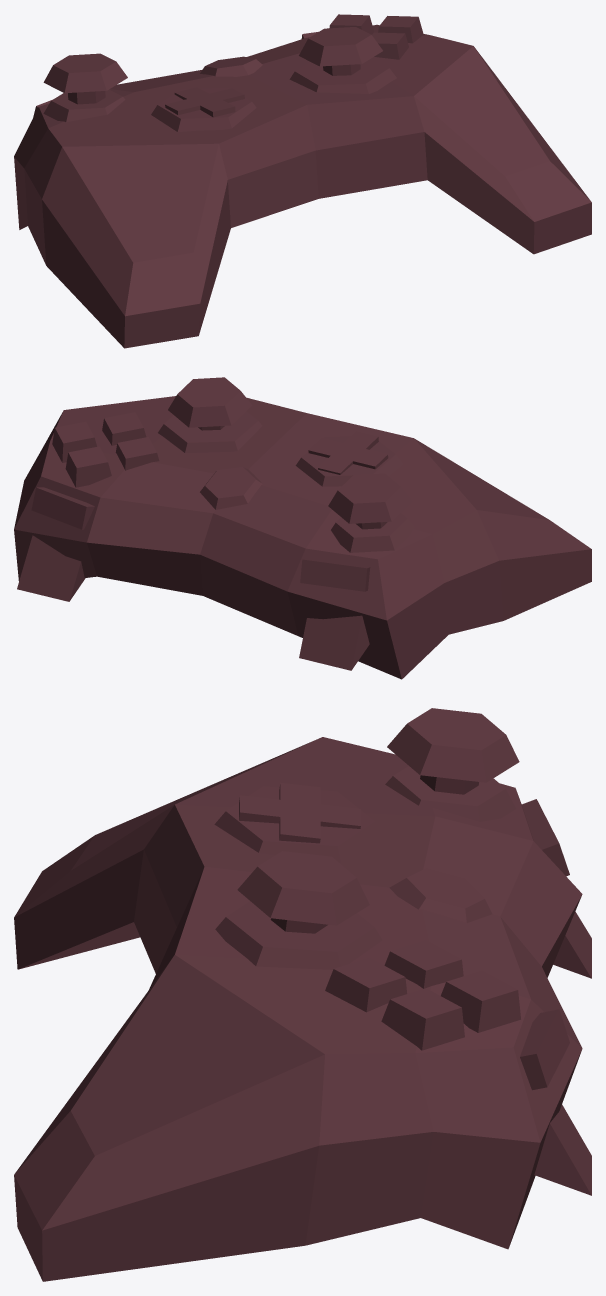
Rendered from controller-x3.fbx.
3 renders of one model, top to bottom at view 1: azimuth 30°, elevation 25°; view 2: azimuth 150°, elevation 25°; view 3: azimuth 270°, elevation 25°, orthographic. The views are drawn at different scales.
Parts seen in each view (by area): view 1: controller-x3; view 2: controller-x3; view 3: controller-x3.
Part boxes in pixels (left/top/right/bottom): controller-x3: left=14, top=14, right=591, bottom=348; controller-x3: left=14, top=377, right=591, bottom=679; controller-x3: left=14, top=708, right=591, bottom=1281.
Bounding box in the file's own units: 0.1699 × 0.063 × 0.1153.
